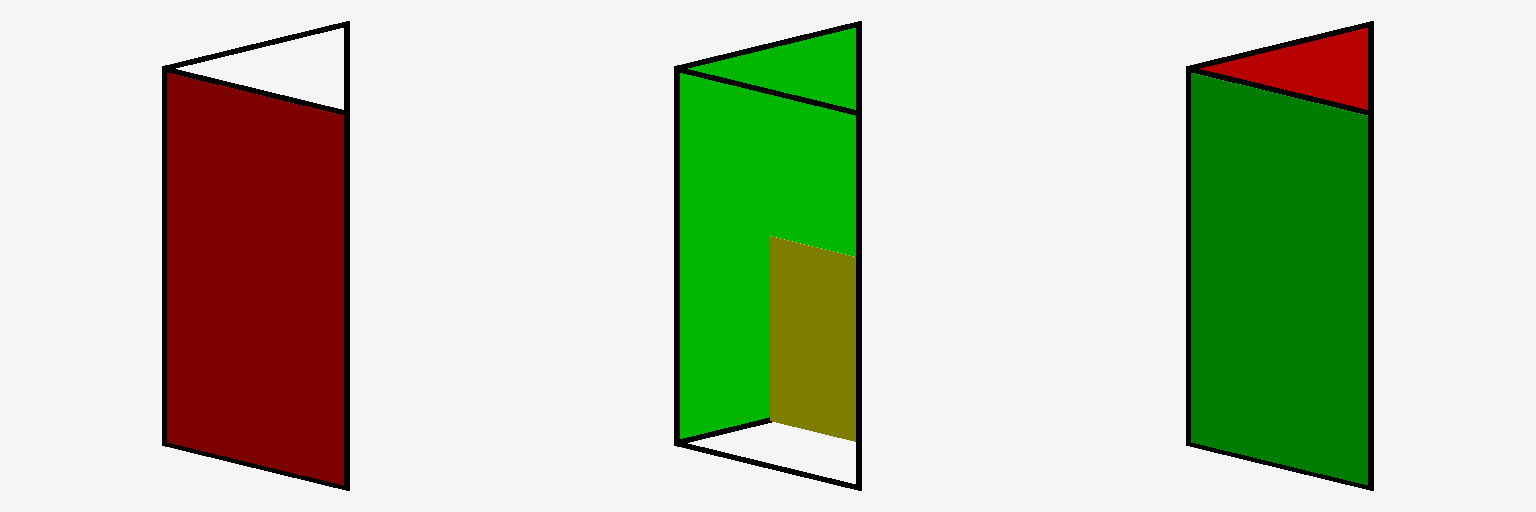
URDF robot description (Buoy_Akash):
<?xml version="1.0" encoding="utf-8"?>
<!-- This URDF was automatically created by SolidWorks to URDF Exporter! Originally created by [author] ([email redacted]) 
     Commit Version: 1.5.0-0-g9aa0fdb  Build Version: 1.5.7004.21443
     For more information, please see http://wiki.ros.org/sw_urdf_exporter -->
<robot
  name="Buoy_Akash">
  <link
    name="base_link">
    <inertial>
      <origin
        xyz="0.90144 -2.1499 0.64058"
        rpy="0 0 0" />
      <mass
        value="0.98338" />
      <inertia
        ixx="0.26367"
        ixy="-1.7675E-15"
        ixz="2.4259E-15"
        iyy="0.26367"
        iyz="2.6994E-15"
        izz="0.10808" />
    </inertial>
    <visual>
      <origin
        xyz="0 0 0"
        rpy="0 0 0" />
      <geometry>
        <mesh
          filename="package://Buoy_Akash/meshes/base_link.STL" />
      </geometry>
      <material
        name="">
        <color
          rgba="0 0 0 1" />
      </material>
    </visual>
    <collision>
      <origin
        xyz="0 0 0"
        rpy="0 0 0" />
      <geometry>
        <mesh
          filename="package://Buoy_Akash/meshes/base_link.STL" />
      </geometry>
    </collision>
  </link>
  <link
    name="Board_1">
    <inertial>
      <origin
        xyz="0.325 -0.625 0.0015"
        rpy="0 0 0" />
      <mass
        value="2.2297" />
      <inertia
        ixx="0.27619"
        ixy="-1.4717E-18"
        ixz="1.1796E-16"
        iyy="0.069049"
        iyz="6.1909E-18"
        izz="0.34524" />
    </inertial>
    <visual>
      <origin
        xyz="0 0 0"
        rpy="0 0 0" />
      <geometry>
        <mesh
          filename="package://Buoy_Akash/meshes/Board_1.STL" />
      </geometry>
      <material
        name="">
        <color
          rgba="1 0 0 1" />
      </material>
    </visual>
    <collision>
      <origin
        xyz="0 0 0"
        rpy="0 0 0" />
      <geometry>
        <mesh
          filename="package://Buoy_Akash/meshes/Board_1.STL" />
      </geometry>
    </collision>
  </link>
  <joint
    name="Board_1"
    type="fixed">
    <origin
      xyz="0.576444202565677 -1.96224364620002 1.26558435740853"
      rpy="1.5707963267949 0 -1.0471975511966" />
    <parent
      link="base_link" />
    <child
      link="Board_1" />
    <axis
      xyz="0 0 0" />
    <safety_controller
      k_velocity="0" />
  </joint>
  <link
    name="Board_2">
    <inertial>
      <origin
        xyz="-0.325 -0.625 0.0015"
        rpy="0 0 0" />
      <mass
        value="2.2297" />
      <inertia
        ixx="0.27619"
        ixy="-3.7054E-18"
        ixz="-8.1185E-16"
        iyy="0.069049"
        iyz="1.1437E-17"
        izz="0.34524" />
    </inertial>
    <visual>
      <origin
        xyz="0 0 0"
        rpy="0 0 0" />
      <geometry>
        <mesh
          filename="package://Buoy_Akash/meshes/Board_2.STL" />
      </geometry>
      <material
        name="">
        <color
          rgba="0 1 0 1" />
      </material>
    </visual>
    <collision>
      <origin
        xyz="0 0 0"
        rpy="0 0 0" />
      <geometry>
        <mesh
          filename="package://Buoy_Akash/meshes/Board_2.STL" />
      </geometry>
    </collision>
  </link>
  <joint
    name="Board_2"
    type="fixed">
    <origin
      xyz="1.22644420256568 -1.96224364620002 1.26558435740853"
      rpy="1.5707963267949 0 1.04719755119661" />
    <parent
      link="base_link" />
    <child
      link="Board_2" />
    <axis
      xyz="0 0 0" />
    <safety_controller
      k_velocity="0" />
  </joint>
  <link
    name="Board_3">
    <inertial>
      <origin
        xyz="3.3307E-16 -0.625 0.56442"
        rpy="0 0 0" />
      <mass
        value="2.2297" />
      <inertia
        ixx="0.27619"
        ixy="-7.6997E-18"
        ixz="-8.3656E-22"
        iyy="0.069049"
        iyz="-5.7022E-20"
        izz="0.34524" />
    </inertial>
    <visual>
      <origin
        xyz="0 0 0"
        rpy="0 0 0" />
      <geometry>
        <mesh
          filename="package://Buoy_Akash/meshes/Board_3.STL" />
      </geometry>
      <material
        name="">
        <color
          rgba="1 1 0 1" />
      </material>
    </visual>
    <collision>
      <origin
        xyz="0 0 0"
        rpy="0 0 0" />
      <geometry>
        <mesh
          filename="package://Buoy_Akash/meshes/Board_3.STL" />
      </geometry>
    </collision>
  </link>
  <joint
    name="Board_3"
    type="fixed">
    <origin
      xyz="0.901444202565677 -1.39632713374014 1.26558435740853"
      rpy="1.5707963267949 0 0" />
    <parent
      link="base_link" />
    <child
      link="Board_3" />
    <axis
      xyz="0 0 0" />
    <safety_controller
      k_velocity="0" />
  </joint>
</robot>

--- Facts derived from the render (not from the file) ---
3 views of the same robot in one strip: view 1: azimuth 30°, elevation 25°; view 2: azimuth 150°, elevation 25°; view 3: azimuth 270°, elevation 25° (orthographic).
Robot: Buoy_Akash — 4 links, 3 joints (3 fixed); root link base_link; default pose: every joint at zero.
Links seen in each view (by area): view 1: Board_1, base_link; view 2: Board_2, Board_3, base_link; view 3: Board_2, base_link, Board_1.
Boxes of the visible links, x1,y1,x2,y2 form: Board_1: [167, 73, 343, 485]; base_link: [162, 21, 349, 490]; Board_2: [680, 28, 855, 438]; Board_3: [770, 236, 855, 441]; base_link: [674, 21, 861, 490]; Board_2: [1191, 73, 1367, 484]; base_link: [1186, 21, 1373, 490]; Board_1: [1200, 28, 1367, 109].
Size in the robot's own frame: 1.3 by 1.13 by 2.5 metres.
4 mesh visuals loaded from 4 distinct referenced files (4 binary STL).
